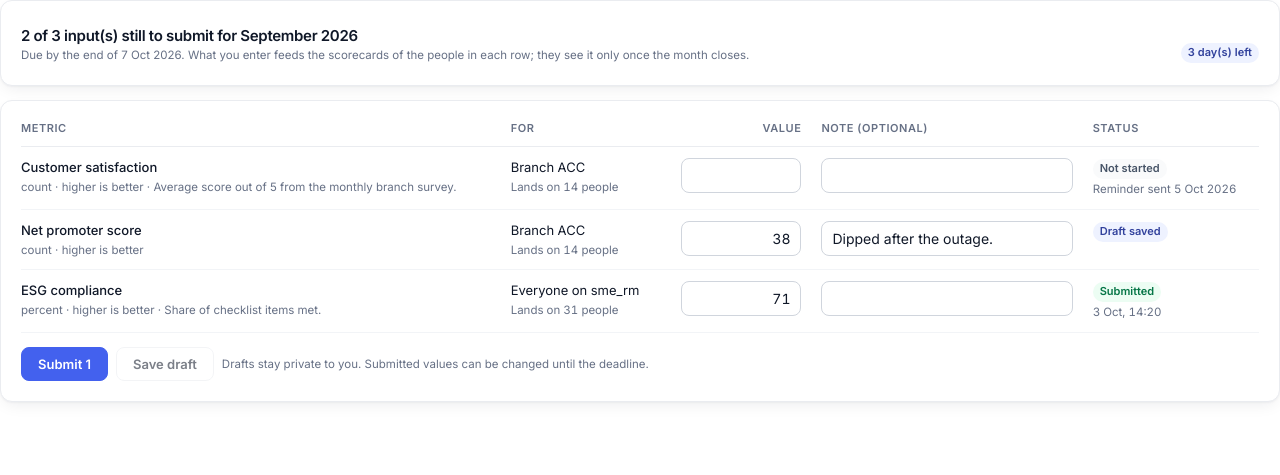
Test: my inputs › validates a value before it is sent
Type "4.25" into the field named "Value for Customer satisfaction, Branch ACC". click: (742, 176)
box: [682,158,802,193]
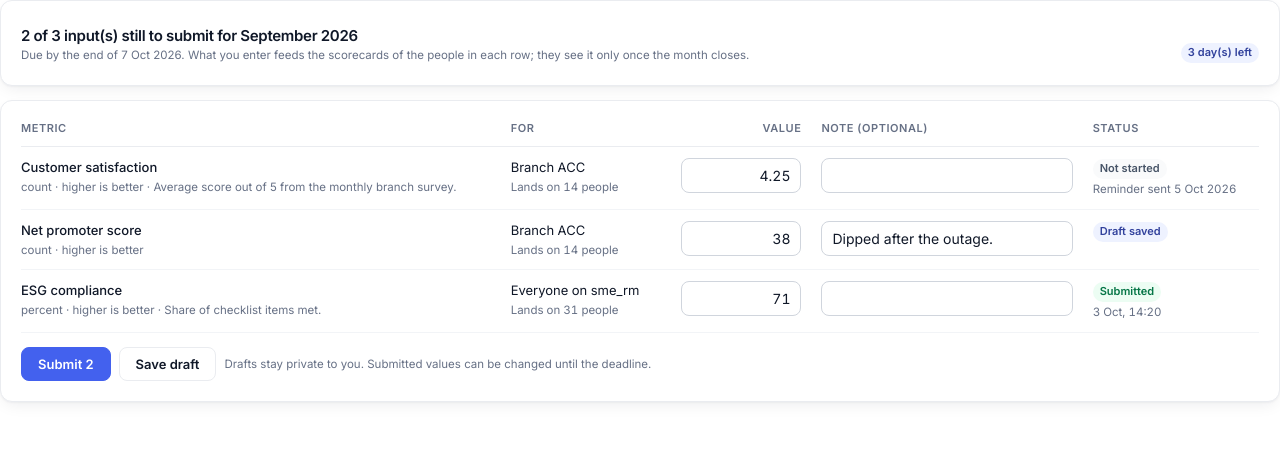
Expected: the button "Submit 2" is enabled, [21,347,111,381]
Now the button "Save draft" is enabled, box [119,347,216,381]
Replace the text in the field named "Value for Customer satisfaction, Branch ACC" with "four". click: (742, 176)
box: [682,158,802,193]
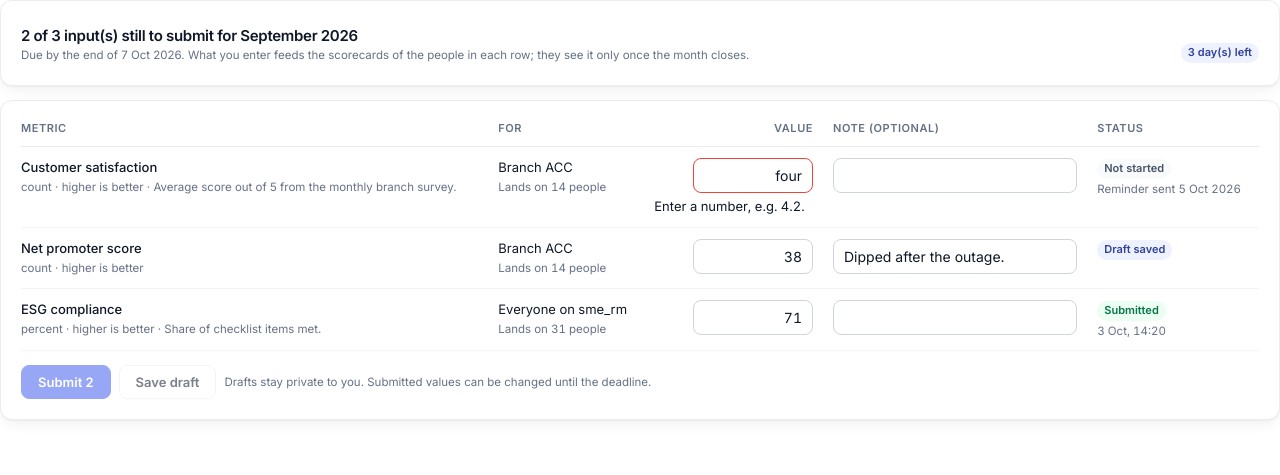
Now the message shows "Enter a number", box [654,198,805,214]
Now the button "Submit 2" is disabled, box [21,365,111,399]
Replace the text in the field named "Value for Customer satisfaction, Branch ACC" with "4.2". click: (753, 176)
box: [693,158,813,193]
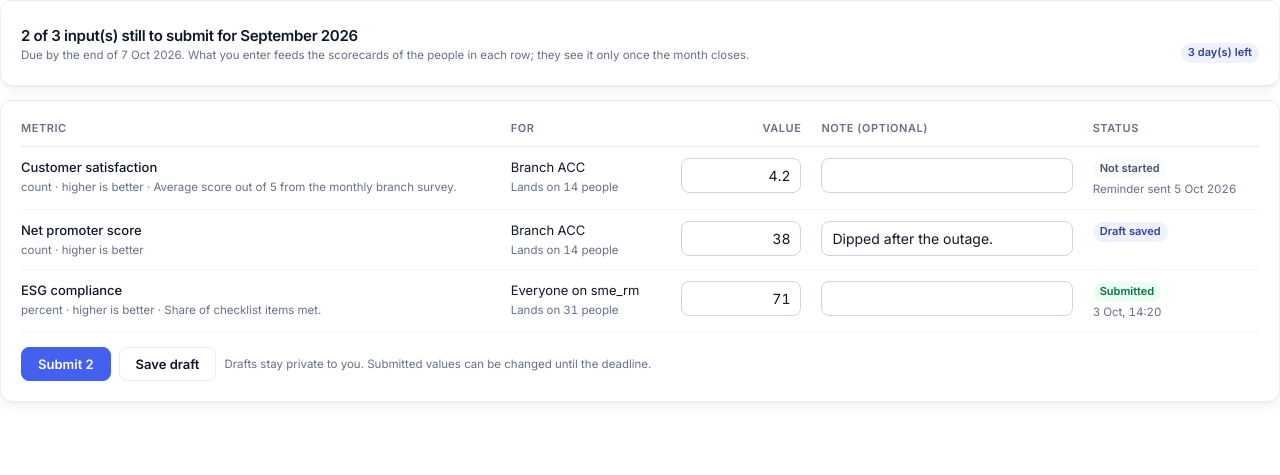
Replace the text in the field named "Value for ESG compliance, Everyone on sme_rm" with "140". click: (742, 299)
box: [682,282,802,316]
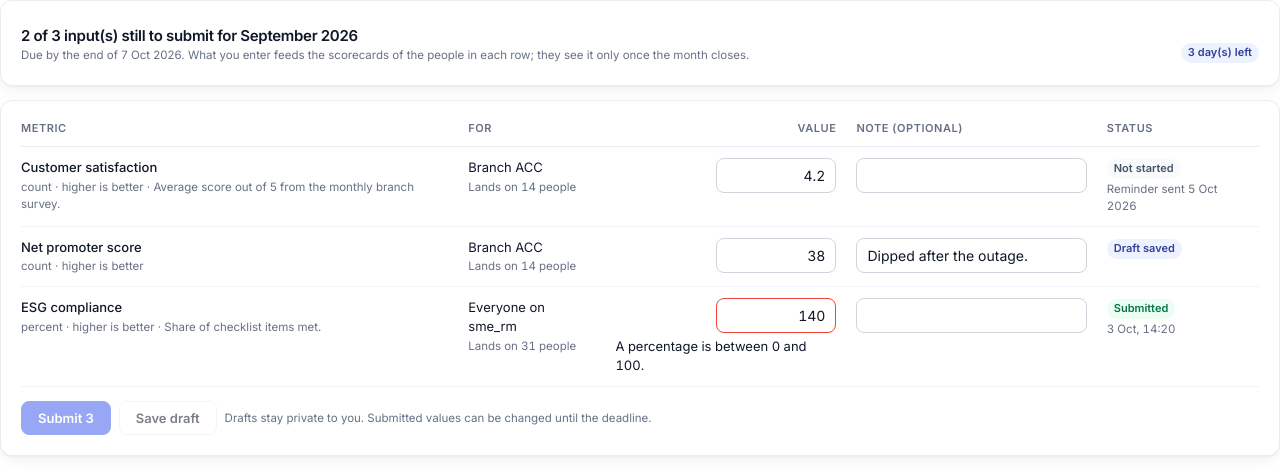
Now the message shows "between 0 and 100", box [615,338,806,373]
